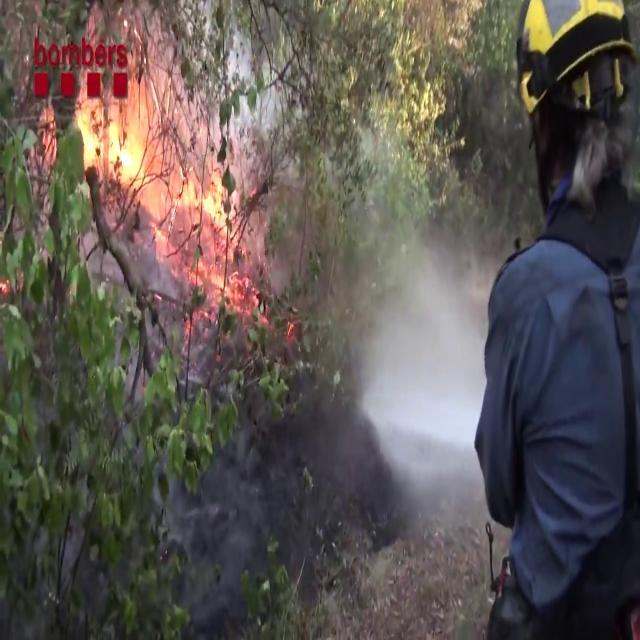Fire: (76, 38, 230, 252)
Smoke: (350, 189, 500, 502)
